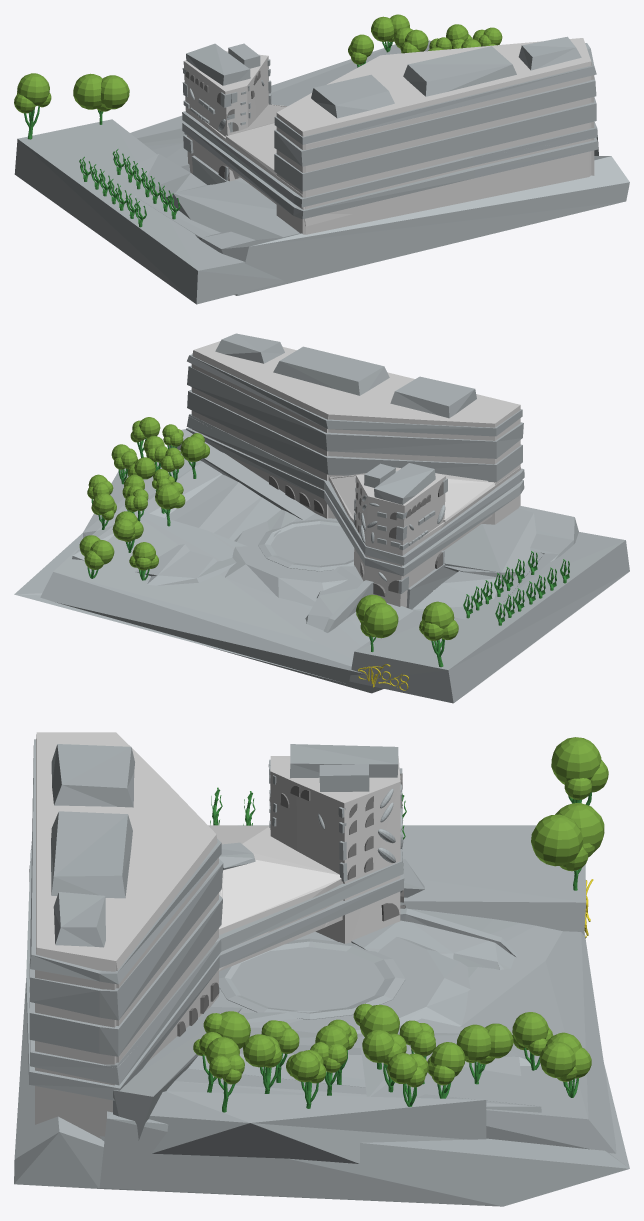
3 renders of one model, top to bottom at view 1: azimuth 30°, elevation 25°; view 2: azimuth 150°, elevation 25°; view 3: azimuth 270°, elevation 25°, orthographic. The views are drawn at different scales.
Visible parts, largest first — view 1: node_MeshObject-700050432-PolyPaper10, node_MeshObject1878679552-PolyPaper21, node_MeshObject-1272129536-PolyPaper10, node_MeshObject-127971328-PolyPaper10; view 2: node_MeshObject1878679552-PolyPaper21, node_MeshObject-700050432-PolyPaper10, node_MeshObject-1272129536-PolyPaper10, node_MeshObject-127971328-PolyPaper10, node_MeshObject444107776-PolyPaper9; view 3: node_MeshObject-700050432-PolyPaper10, node_MeshObject1878679552-PolyPaper21, node_MeshObject-1272129536-PolyPaper10, node_MeshObject-127971328-PolyPaper10, node_MeshObject444107776-PolyPaper9.
Part boxes in pixels (x1=…): node_MeshObject-700050432-PolyPaper10: x1=14, y1=36, x2=629, y2=295; node_MeshObject1878679552-PolyPaper21: x1=79, y1=34, x2=598, y2=240; node_MeshObject-1272129536-PolyPaper10: x1=14, y1=14, x2=409, y2=304; node_MeshObject-127971328-PolyPaper10: x1=401, y1=24, x2=502, y2=53; node_MeshObject1878679552-PolyPaper21: x1=40, y1=365, x2=569, y2=693; node_MeshObject-700050432-PolyPaper10: x1=14, y1=333, x2=578, y2=680; node_MeshObject-1272129536-PolyPaper10: x1=79, y1=433, x2=629, y2=703; node_MeshObject-127971328-PolyPaper10: x1=87, y1=469, x2=185, y2=552; node_MeshObject444107776-PolyPaper9: x1=112, y1=518, x2=408, y2=690; node_MeshObject-700050432-PolyPaper10: x1=14, y1=732, x2=629, y2=1206; node_MeshObject1878679552-PolyPaper21: x1=26, y1=756, x2=616, y2=1163; node_MeshObject-1272129536-PolyPaper10: x1=29, y1=825, x2=593, y2=1108; node_MeshObject-127971328-PolyPaper10: x1=328, y1=1003, x2=491, y2=1106; node_MeshObject444107776-PolyPaper9: x1=477, y1=879, x2=592, y2=1064.
Size of the model in its own units: 4.53 by 1.65 by 3.54.
